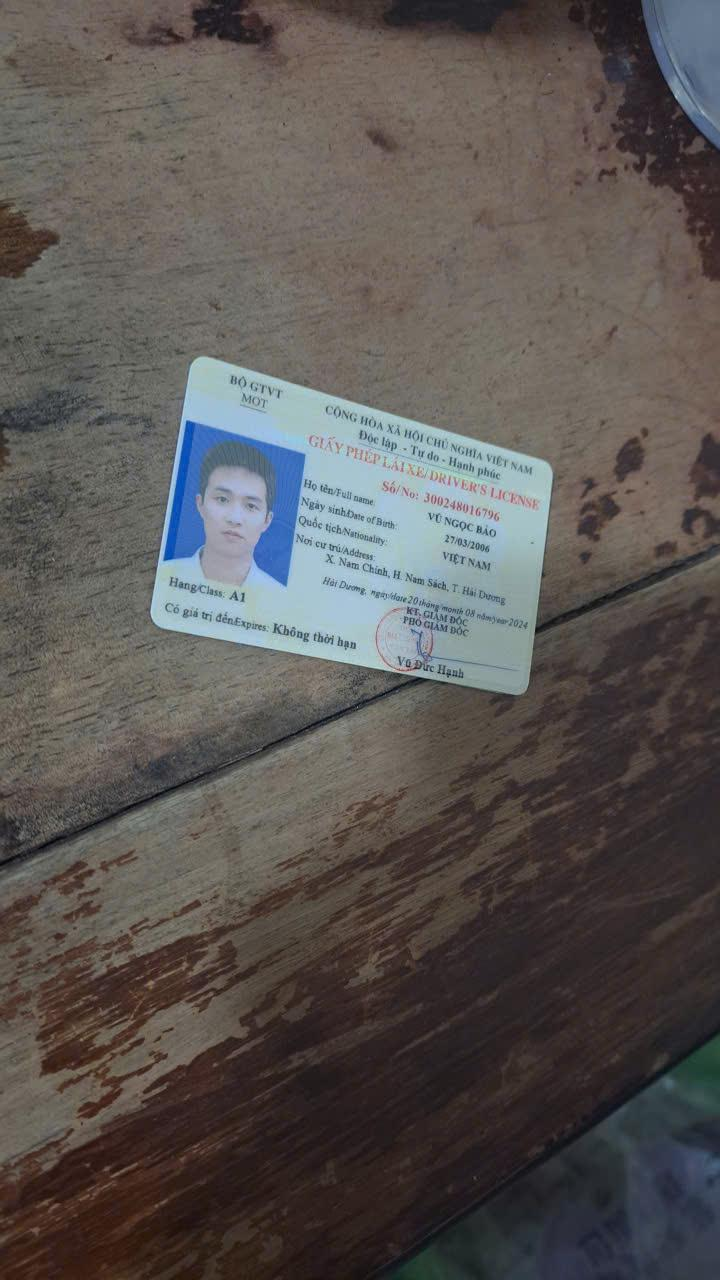gplx: (146, 351, 561, 708)
